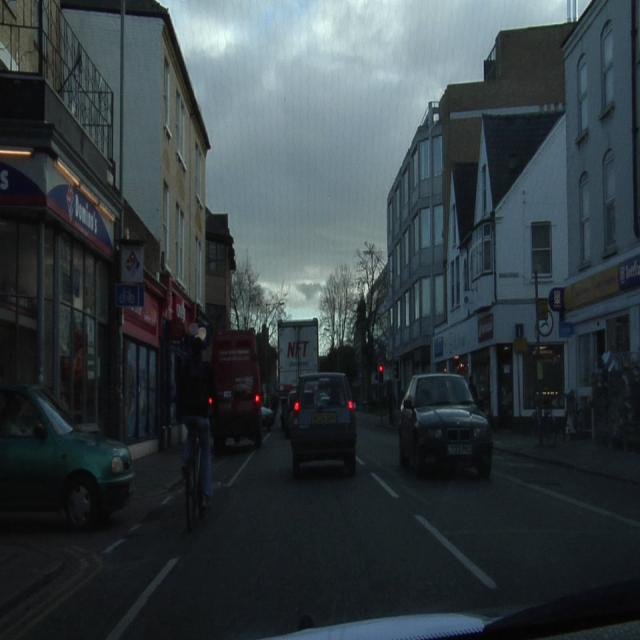Bicyclist: (179, 337, 215, 528)
Building: (1, 0, 232, 455), (386, 25, 569, 429)
Car: (1, 386, 133, 524), (399, 374, 491, 477), (289, 374, 355, 477)
Road: (2, 418, 639, 633)
Tree: (319, 242, 386, 401), (231, 257, 286, 342)
Truck_Bus: (211, 330, 262, 444)
person: (178, 337, 215, 528)
